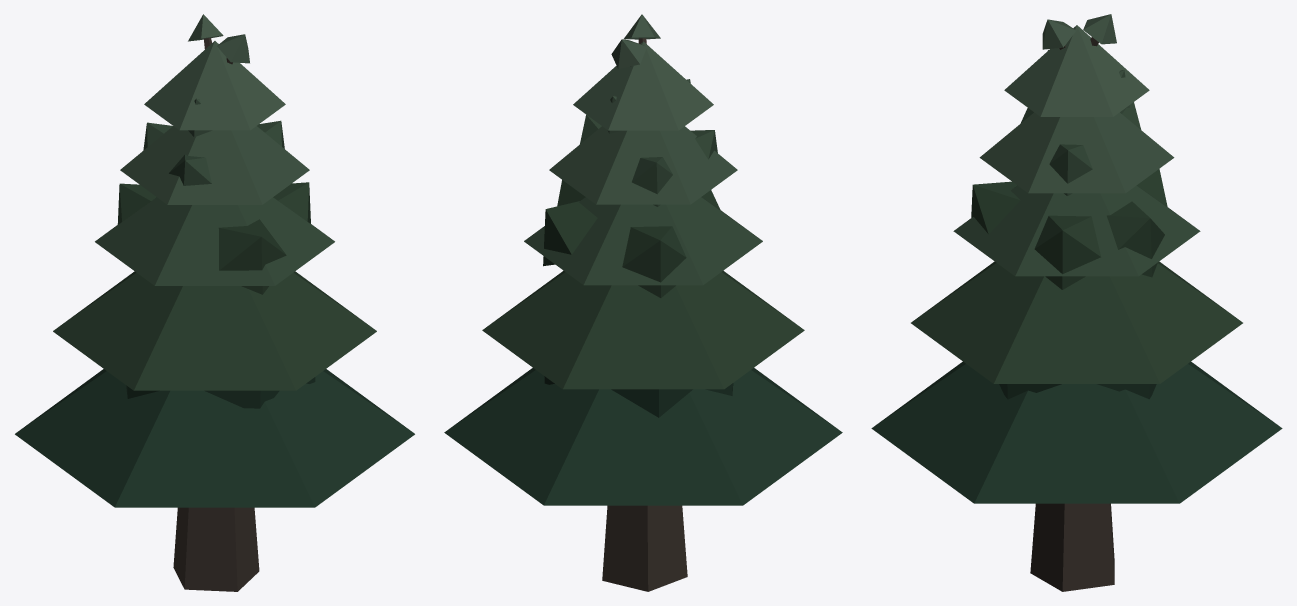
File: lowPolyTree.glb
3 renders of one model, left to right at view 1: azimuth 30°, elevation 25°; view 2: azimuth 150°, elevation 25°; view 3: azimuth 270°, elevation 25°, orthographic. The views are drawn at different scales.
Visible parts, largest first — view 1: n3, n32, n56, n75, n89, n1, n47, n42, n61, n37, n13, n94; view 2: n3, n32, n56, n75, n89, n1, n42, n52, n8, n71, n99; view 3: n3, n32, n56, n75, n89, n1, n37, n52, n47, n66, n94, n99 (+1 smaller).
Boxes of the visible parts, <box> form: n3: <box>15,369,414,507</box>; n32: <box>53,271,376,390</box>; n56: <box>95,197,334,285</box>; n75: <box>120,126,309,204</box>; n89: <box>144,41,285,130</box>; n1: <box>173,507,259,591</box>; n47: <box>218,219,286,294</box>; n42: <box>117,183,156,224</box>; n61: <box>169,155,211,185</box>; n37: <box>273,182,310,223</box>; n13: <box>204,390,279,408</box>; n94: <box>217,34,249,63</box>; n3: <box>444,368,842,505</box>; n32: <box>482,270,804,389</box>; n56: <box>524,197,762,285</box>; n75: <box>549,126,737,204</box>; n89: <box>573,41,713,130</box>; n1: <box>602,505,687,591</box>; n42: <box>622,226,686,297</box>; n52: <box>543,201,597,266</box>; n8: <box>611,389,692,417</box>; n71: <box>632,157,672,206</box>; n99: <box>611,39,646,68</box>; n3: <box>871,361,1282,503</box>; n32: <box>911,261,1242,383</box>; n56: <box>953,185,1200,276</box>; n75: <box>979,112,1174,193</box>; n89: <box>1004,25,1149,116</box>; n1: <box>1030,503,1114,591</box>; n37: <box>1034,215,1100,289</box>; n52: <box>1107,201,1164,277</box>; n47: <box>971,181,1020,234</box>; n66: <box>1049,144,1092,195</box>; n94: <box>1042,19,1076,49</box>; n99: <box>1083,14,1116,44</box>.
Size of the model in its own units: 1.96 by 3.4 by 2.26.
